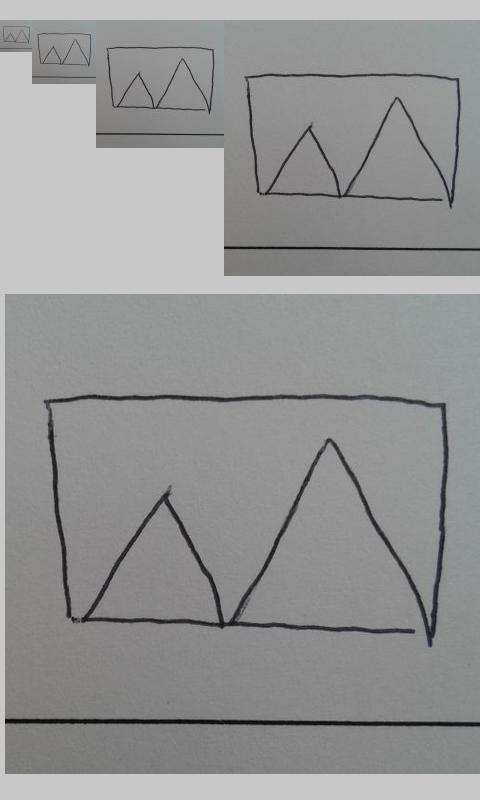image_view: (42, 390, 453, 645), (242, 70, 464, 207), (105, 46, 215, 113), (37, 32, 93, 67), (2, 25, 31, 44)
